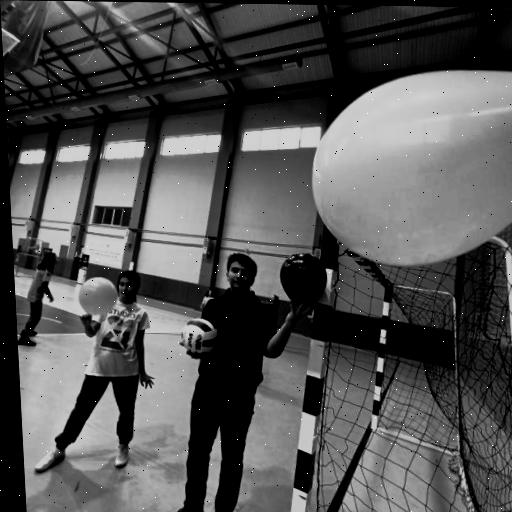balloon: (306, 66, 512, 268), (280, 253, 332, 314), (75, 275, 120, 316)
